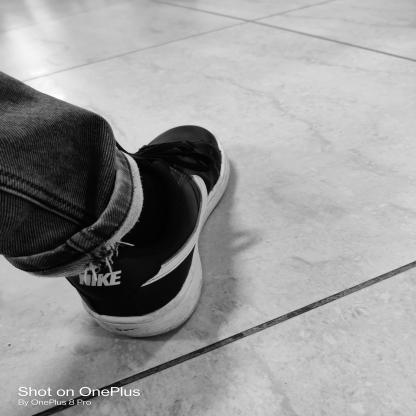ankle: (156, 214, 165, 222)
heel: (129, 326, 138, 333)
left_foot: (74, 127, 231, 339)
pinky: (168, 132, 172, 135)
toe: (206, 132, 209, 135)
